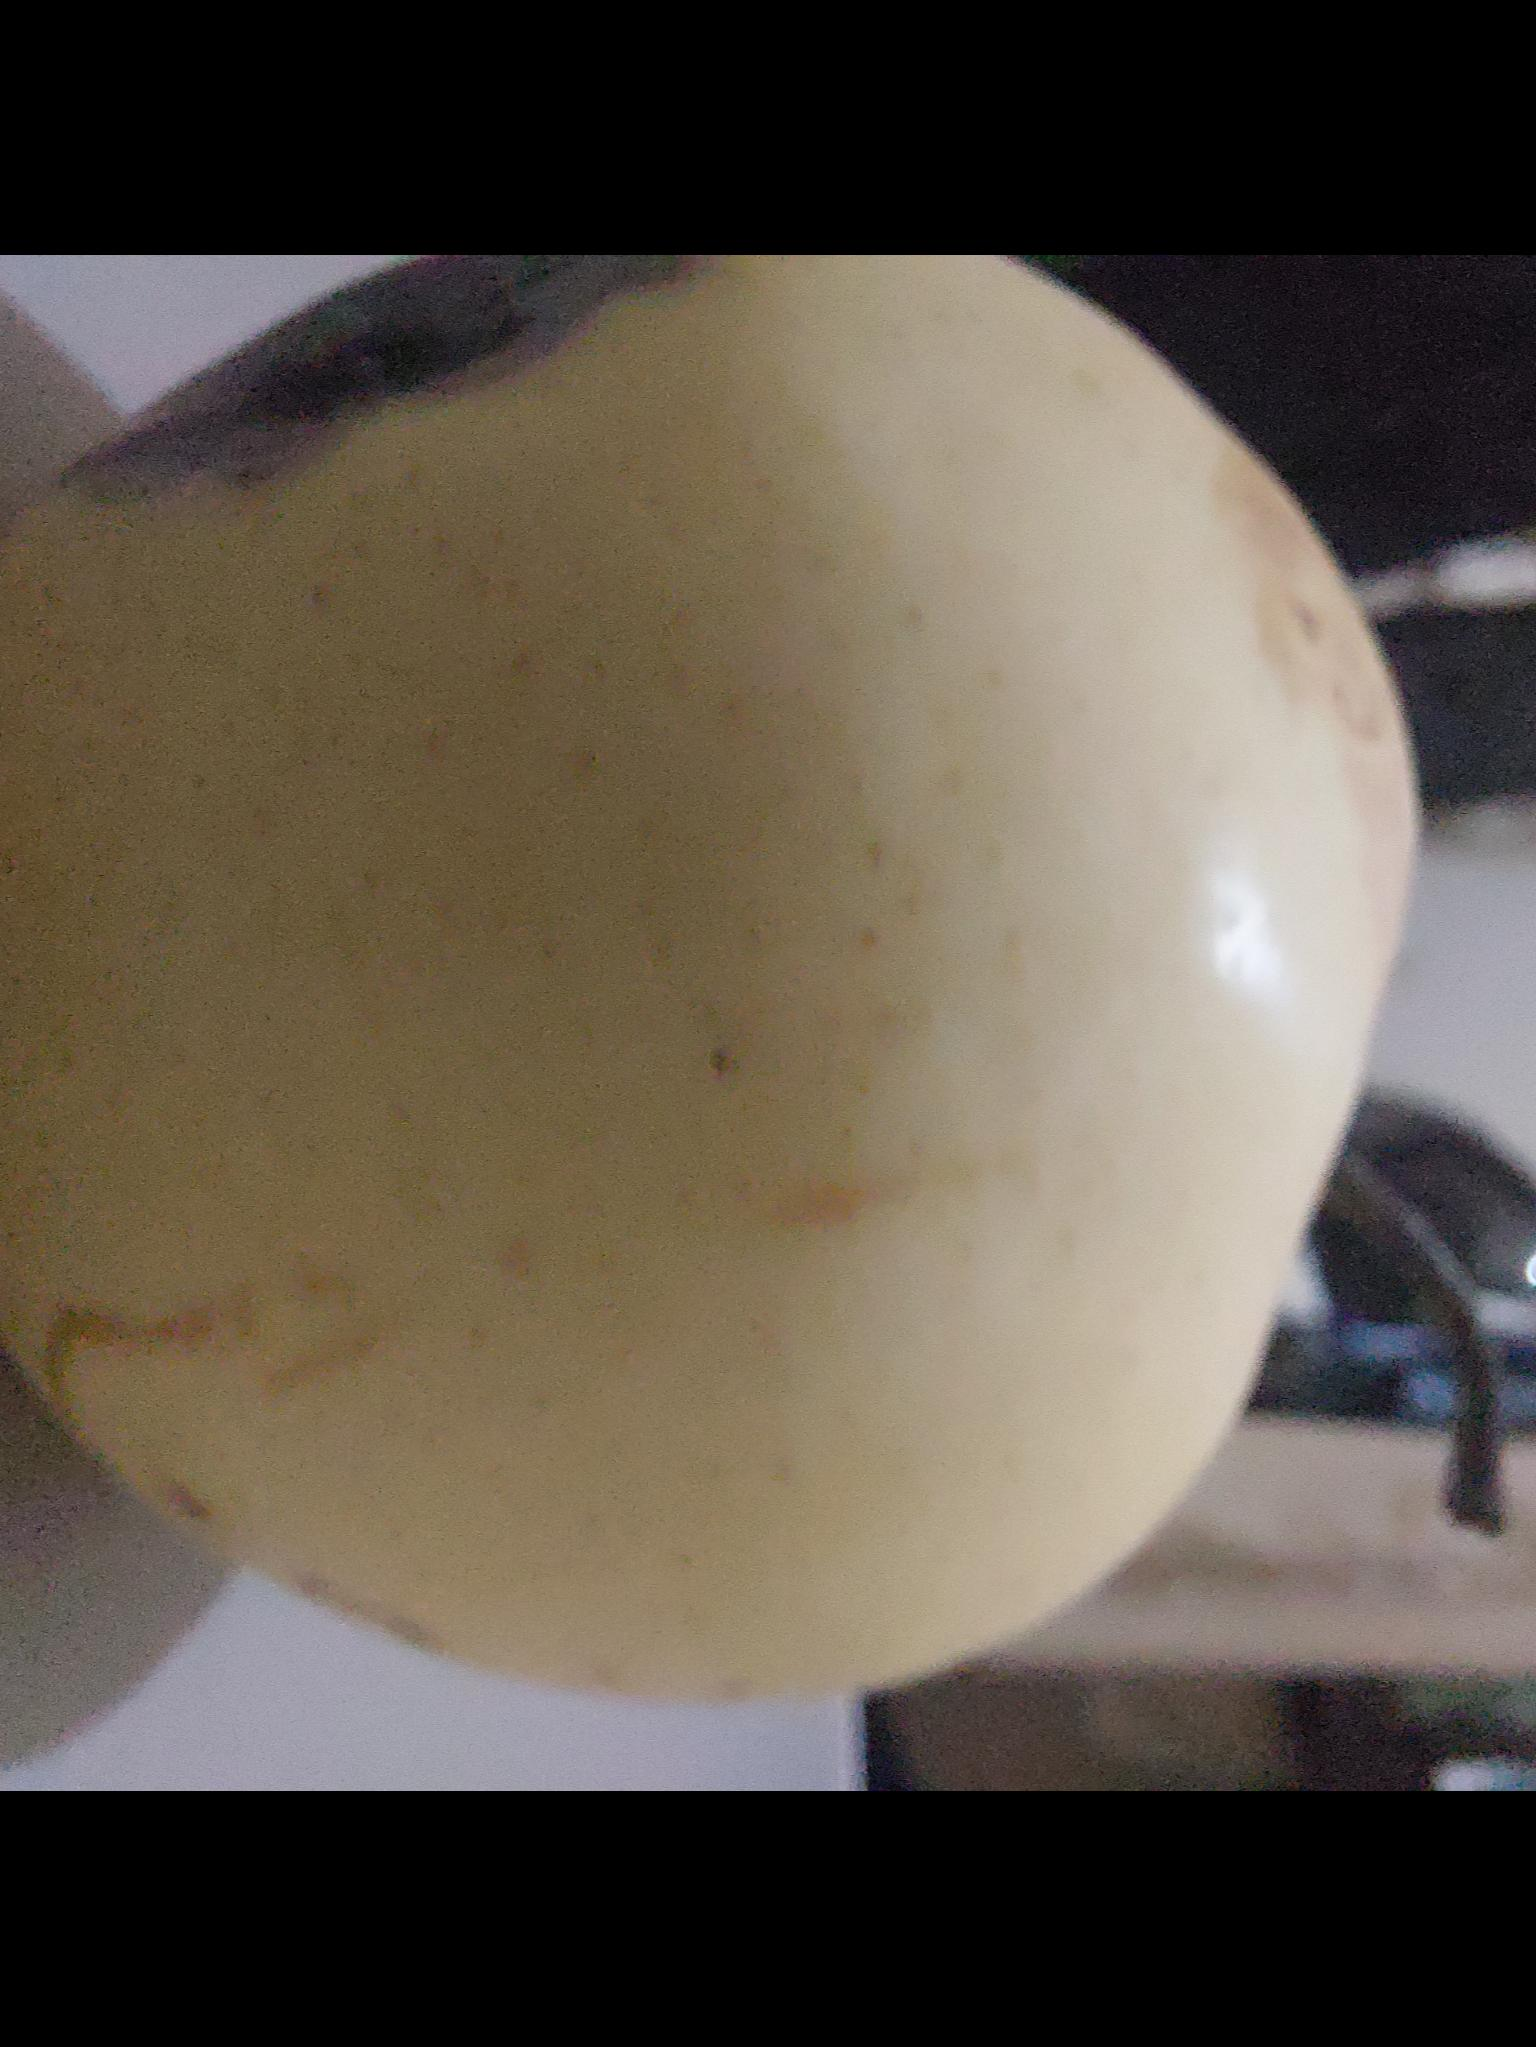Bad Pear: (0, 255, 1425, 1707)
